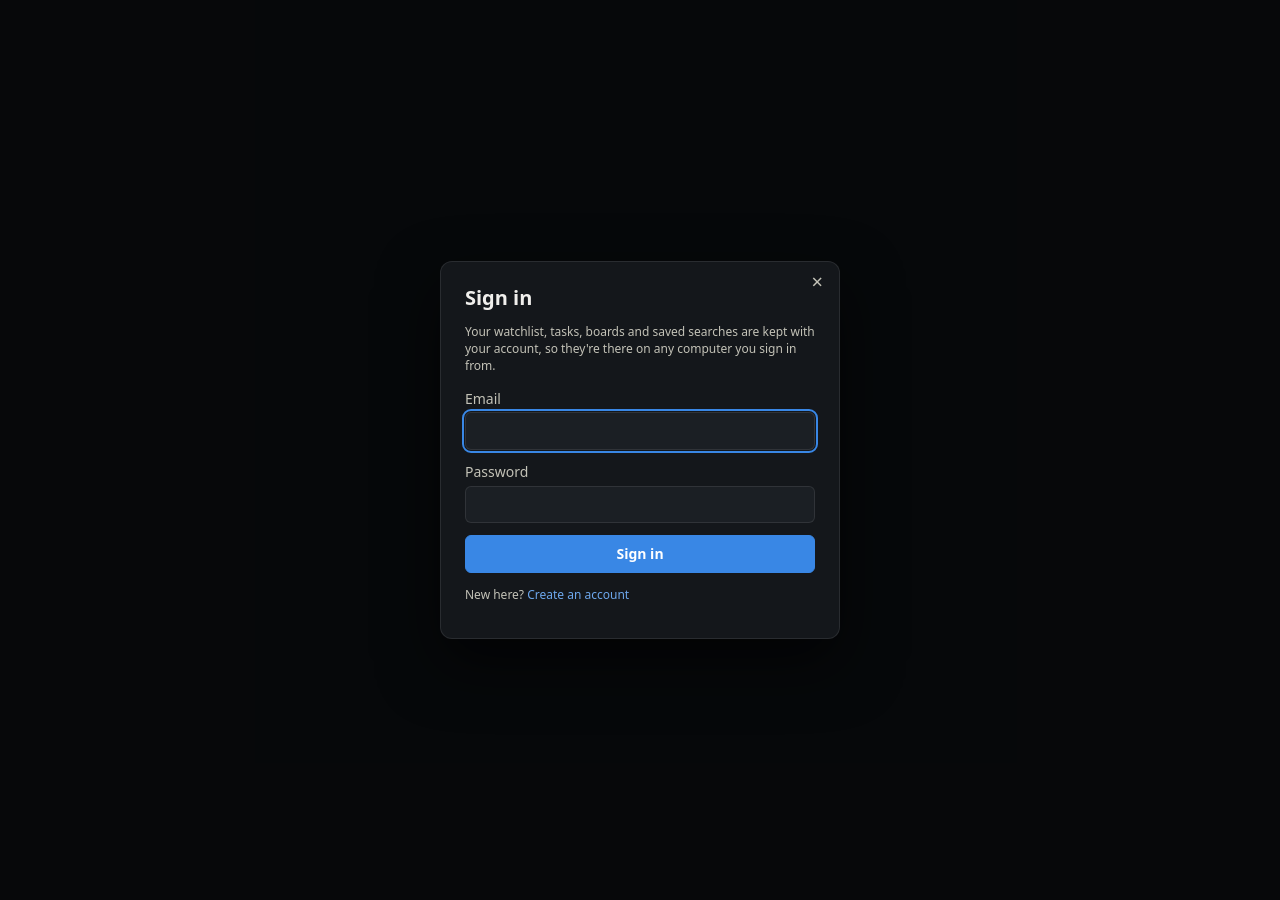
Test: AuthDialog › shows why signing in failed
Type "ana@example.org" into the field labelled "Email". click: (640, 431)
box: [465,412,815,450]
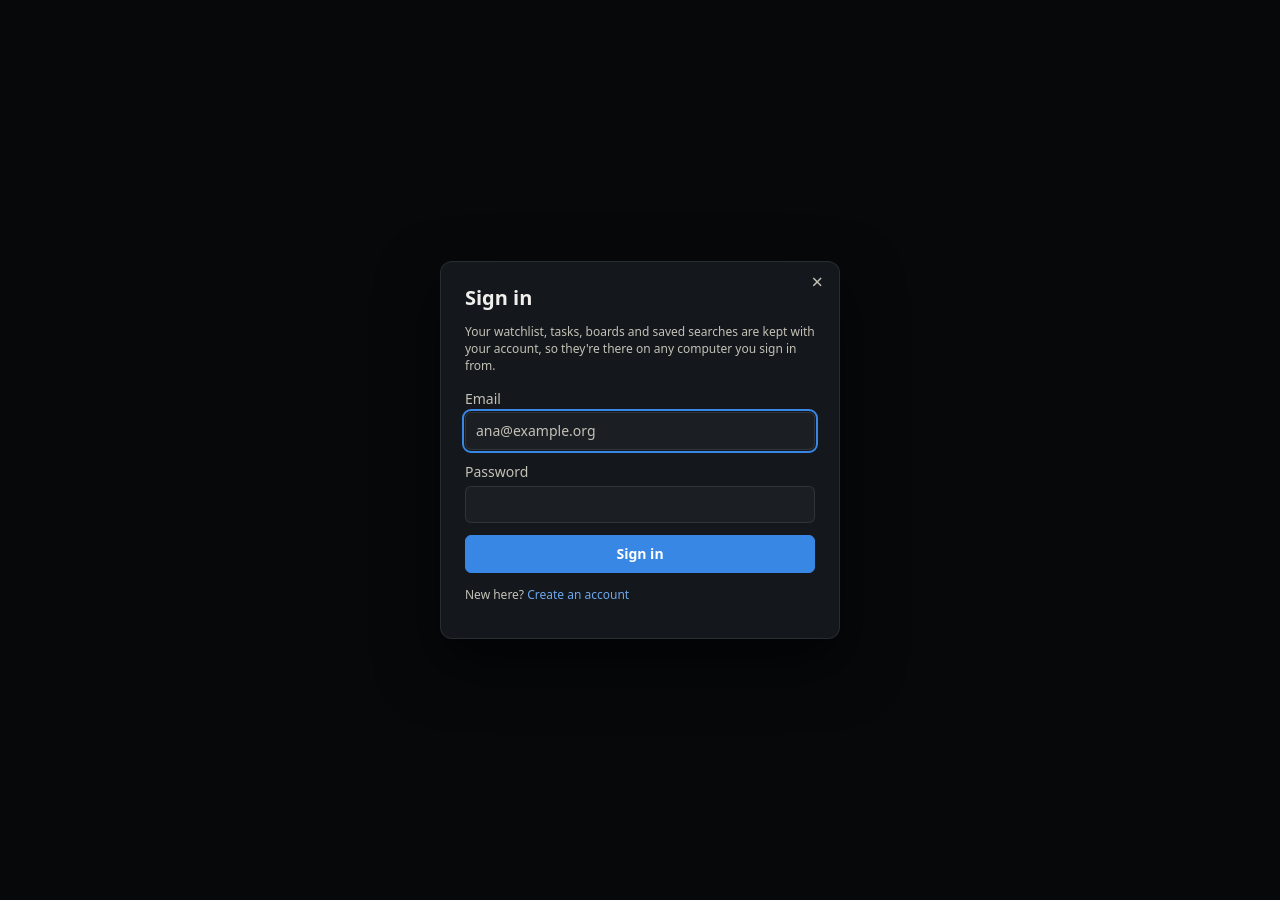
Type "nope" into the password field labelled "Password". click: (640, 504)
box: [465,486,815,523]
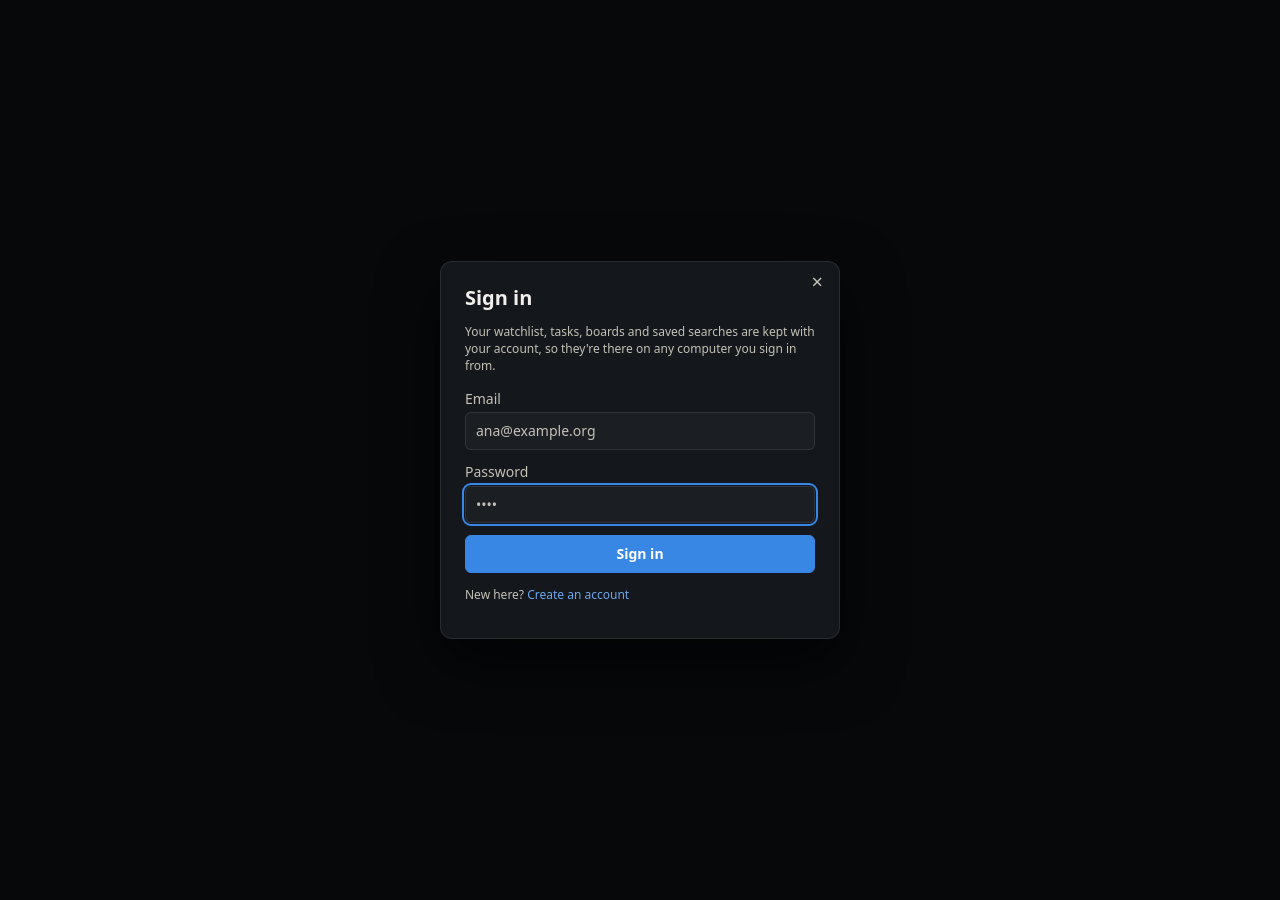
Click the button "Sign in". click: (640, 554)
box: [465,535,815,573]
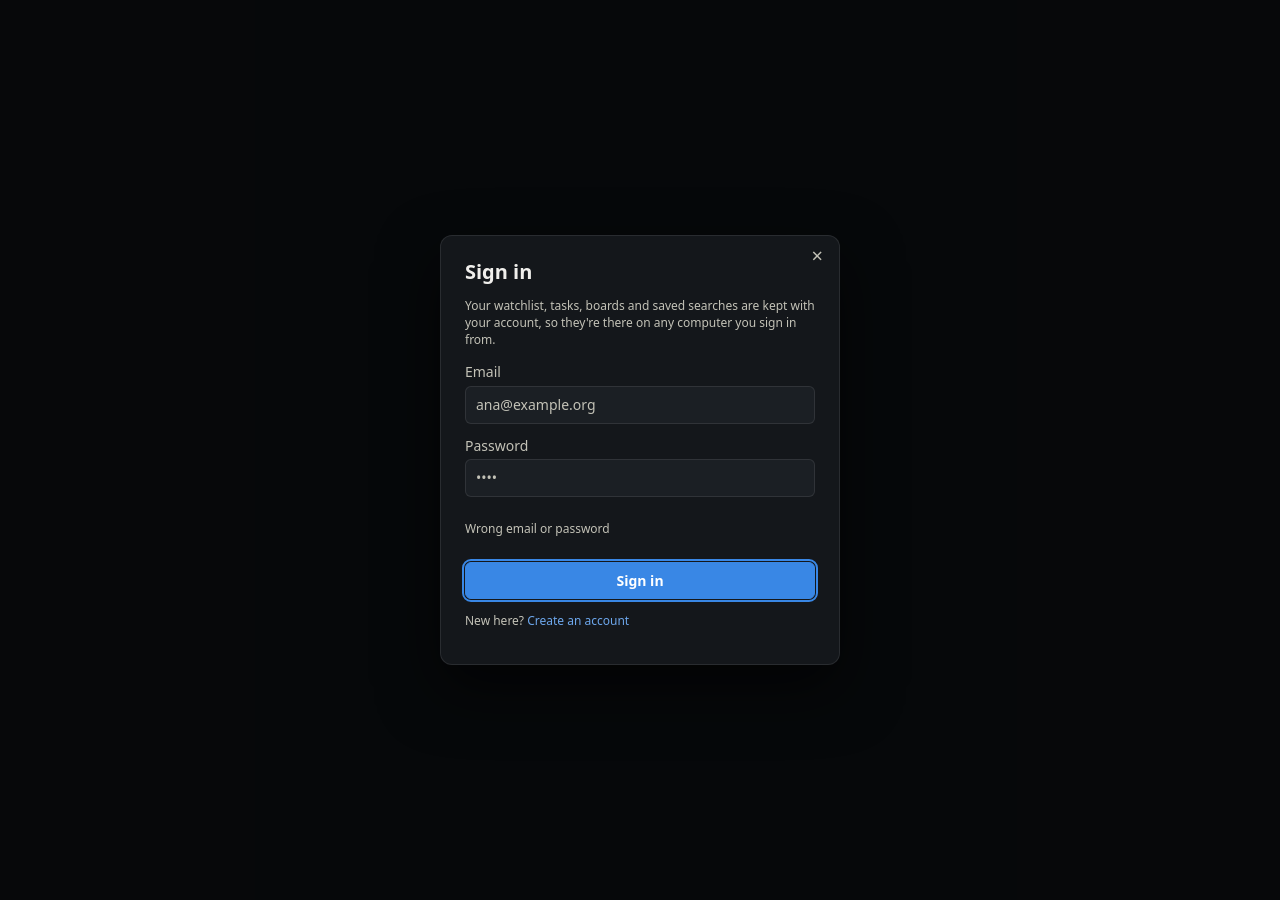
Result: the message reads "Wrong email or password" at [465,520,610,537]
